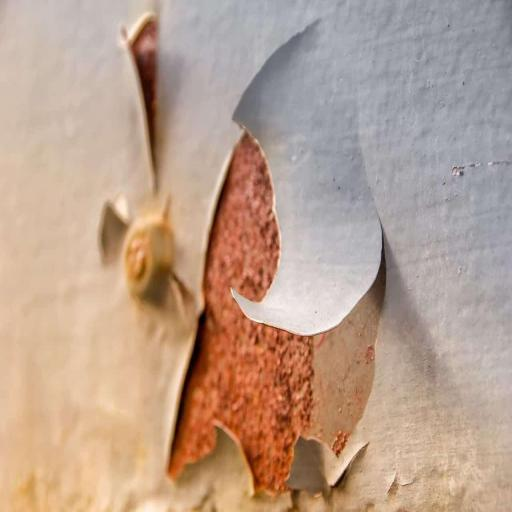segmentation: (167, 130, 349, 497)
